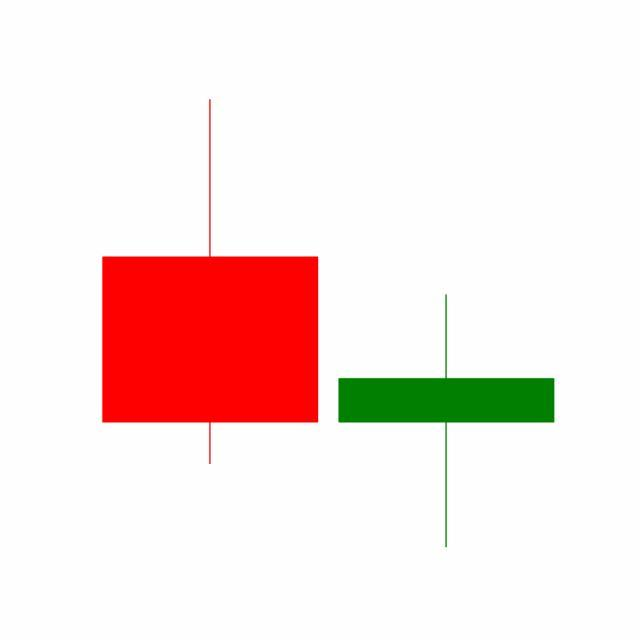Spinning Top: (328, 292, 566, 551)
